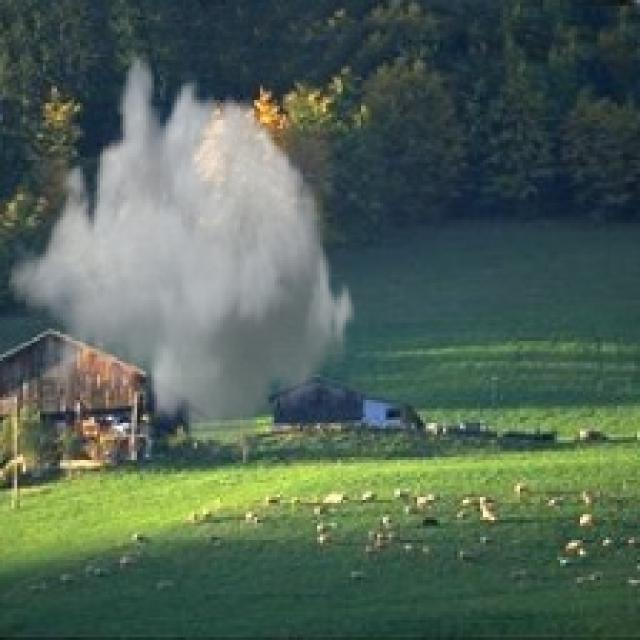Smoke: (6, 48, 357, 466)
